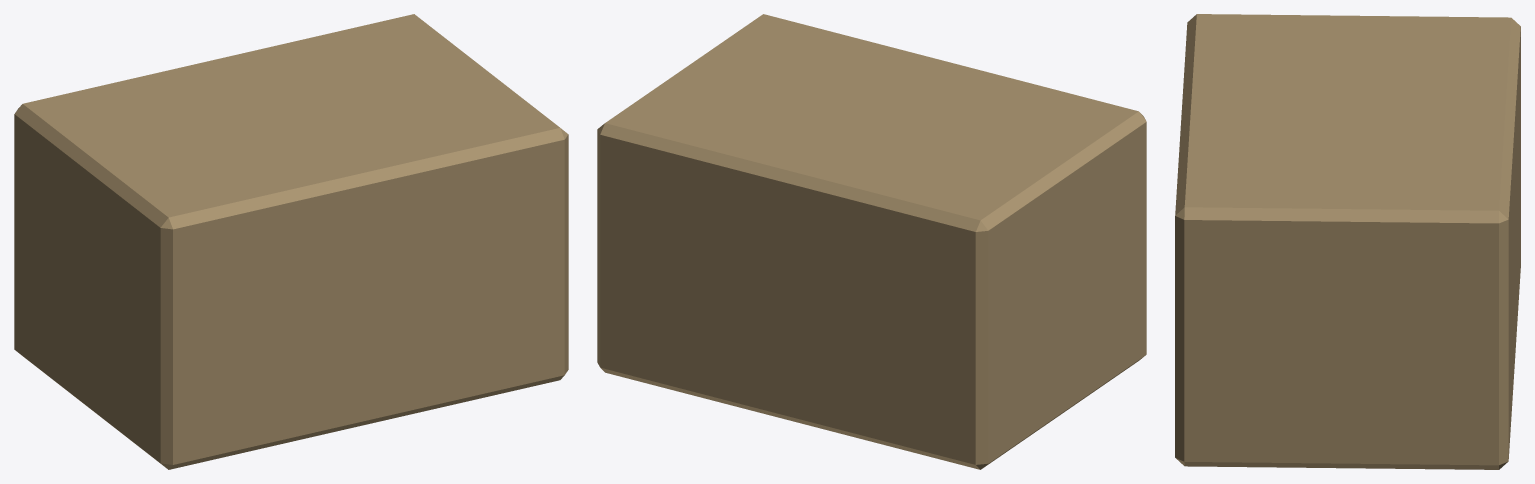
The model's file is camp-props-crate.glb.
3 renders of one model, left to right at view 1: azimuth 30°, elevation 25°; view 2: azimuth 150°, elevation 25°; view 3: azimuth 270°, elevation 25°, orthographic. The views are drawn at different scales.
Parts seen in each view (by area): view 1: camp-props-crate; view 2: camp-props-crate; view 3: camp-props-crate.
Boxes of the visible parts, bbox=[...] form: camp-props-crate: bbox=[14, 14, 568, 469]; camp-props-crate: bbox=[597, 14, 1146, 469]; camp-props-crate: bbox=[1175, 14, 1520, 469].
Bounding box in the file's own units: 0.7626 × 0.4498 × 0.5437.
